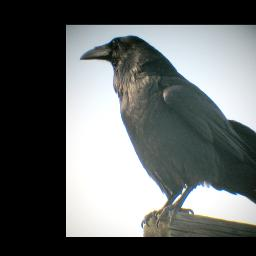Crow: (78, 33, 256, 229)
